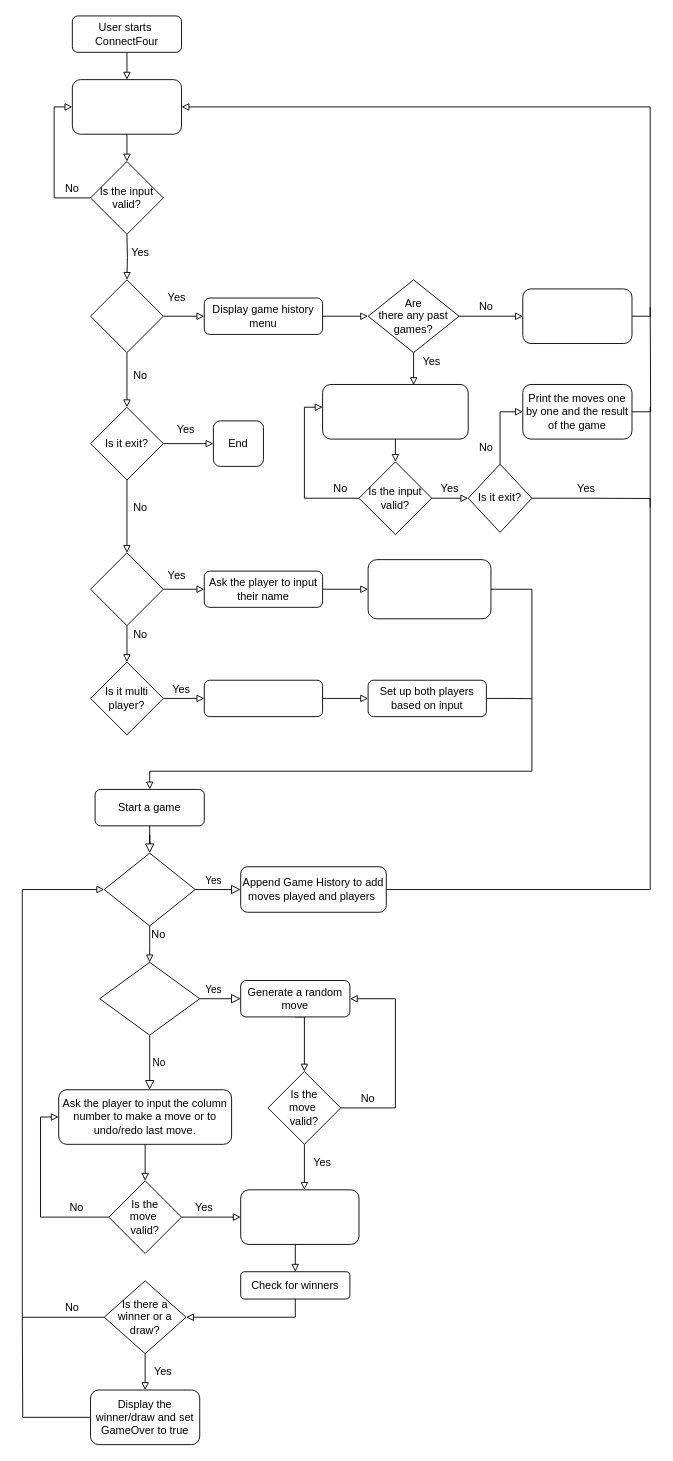
The diagram is 673 pixels wide and 1461 high, and some of its shapes have lost their labels. Here are the shapes that lost their labels. From the top down, the centre of each, then its label:
point (126, 106): Display menu and ask for user input
point (126, 316): Is it game history?
point (577, 316): Inform the user that there are no past games
point (395, 411): Display all past games and ask the user if they want to re-watch one or exit
point (126, 589): Is it single player?
point (429, 589): Set up both players: player 1 based on input and a 'computer' player
point (263, 698): Ask both players to input their names
point (149, 889): Is Game Over?
point (149, 998): Is the current player a "computer"?
point (299, 1216): Save the move and swap players
